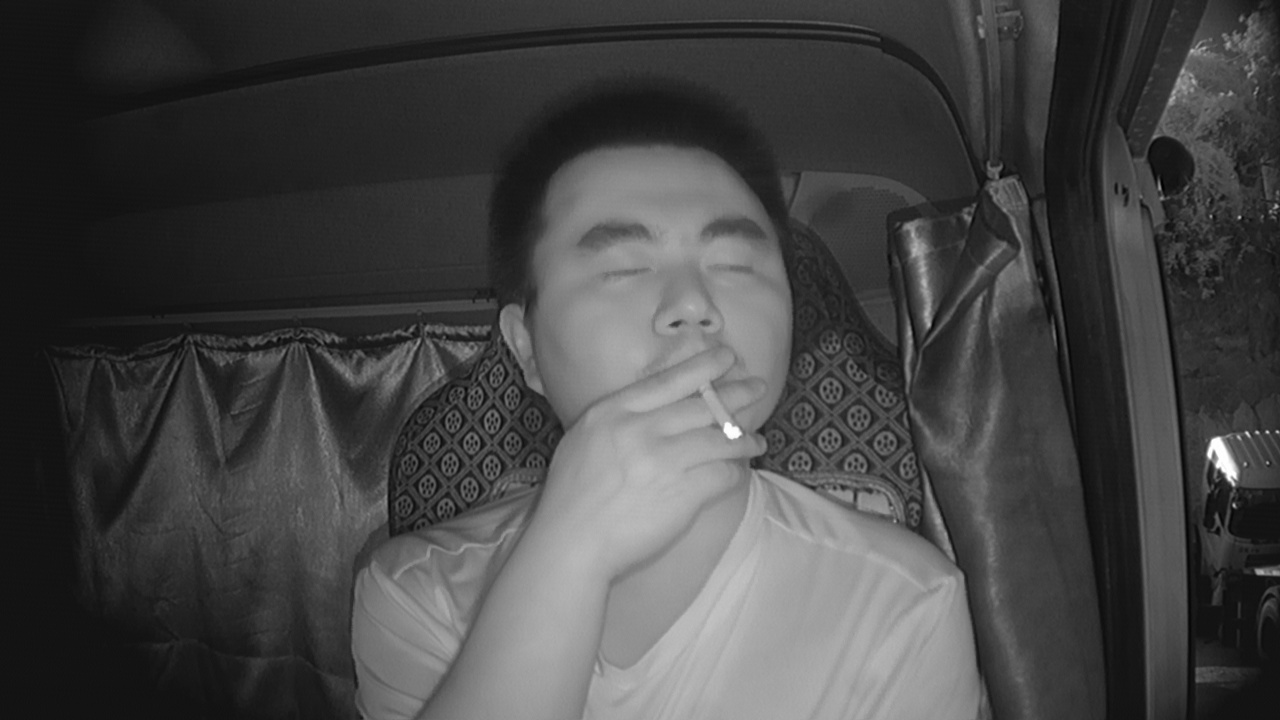hand: (616, 348, 766, 503)
